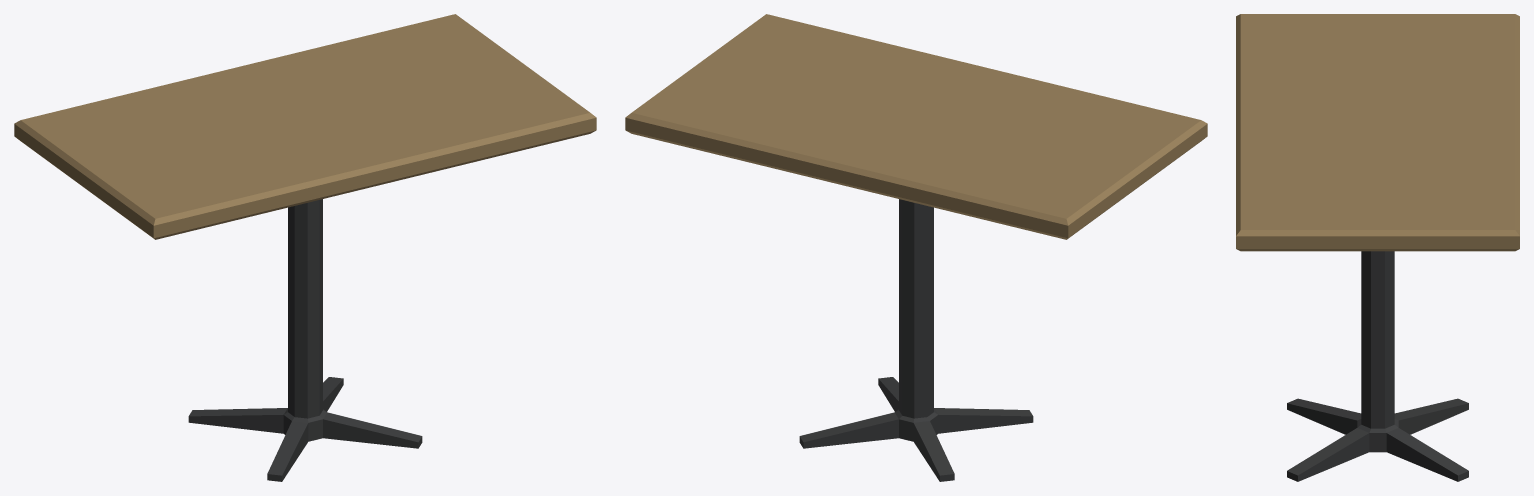
The model's file is SM_Props_Interior_Shop_Restaurant_Table_06.fbx.
The picture shows the model from 3 angles, left to right: view 1: azimuth 30°, elevation 25°; view 2: azimuth 150°, elevation 25°; view 3: azimuth 270°, elevation 25°; orthographic projection.
Visible parts, largest first — view 1: SM_Props_Interior_Shop_Restaurant_Table_06; view 2: SM_Props_Interior_Shop_Restaurant_Table_06; view 3: SM_Props_Interior_Shop_Restaurant_Table_06.
Part boxes in pixels (x1=…): SM_Props_Interior_Shop_Restaurant_Table_06: x1=14, y1=14, x2=596, y2=481; SM_Props_Interior_Shop_Restaurant_Table_06: x1=625, y1=14, x2=1207, y2=481; SM_Props_Interior_Shop_Restaurant_Table_06: x1=1236, y1=14, x2=1519, y2=481.
Size of the model in its own units: 110 by 75 by 60.
